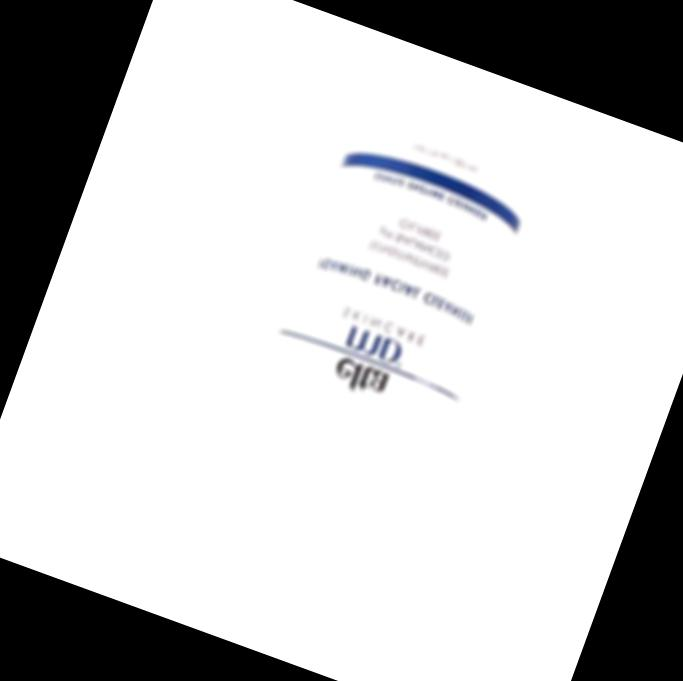cosmetic: (197, 85, 551, 637)
